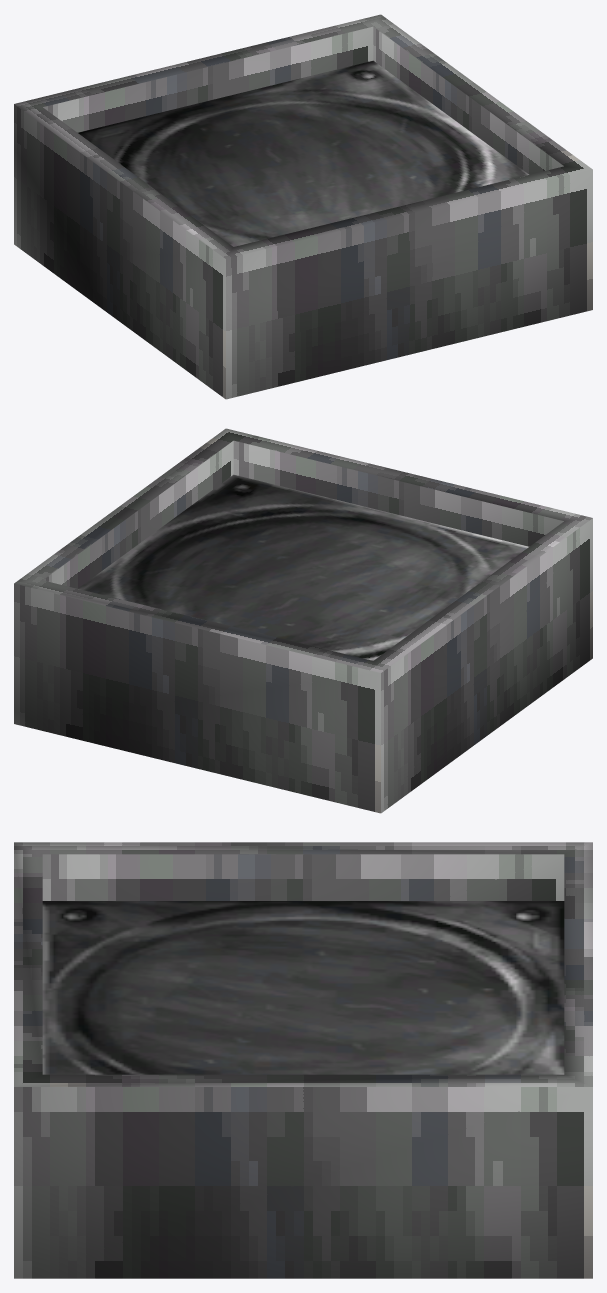
Rendered from INST_SWORDLIGHT_PRESSPLATE.fbx.
3 views of the same model, one above another, from view 1: azimuth 30°, elevation 25°; view 2: azimuth 150°, elevation 25°; view 3: azimuth 270°, elevation 25° (orthographic). The views are drawn at different scales.
Visible parts, largest first — view 1: INST_SWORDLIGHT_PRESSPLATE; view 2: INST_SWORDLIGHT_PRESSPLATE; view 3: INST_SWORDLIGHT_PRESSPLATE.
Boxes of the visible parts, bbox=[...] form: INST_SWORDLIGHT_PRESSPLATE: bbox=[14, 14, 592, 399]; INST_SWORDLIGHT_PRESSPLATE: bbox=[14, 428, 592, 813]; INST_SWORDLIGHT_PRESSPLATE: bbox=[14, 842, 592, 1278].
Bounding box in the file's own units: 10986 × 4015 × 10986.
2 materials, 2 textured.
